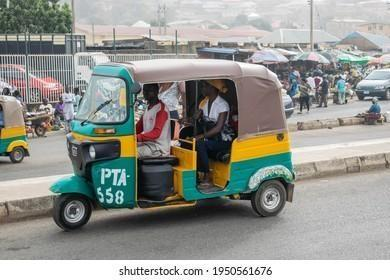keke: (52, 58, 297, 232), (0, 94, 29, 166)
